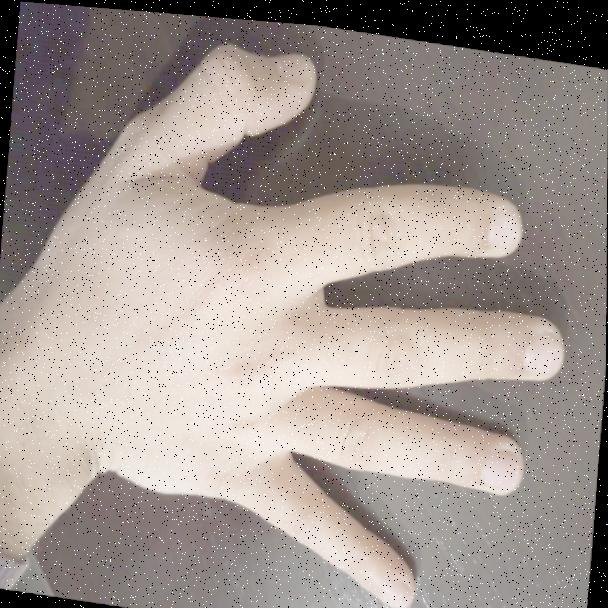five: (103, 15, 579, 608)
